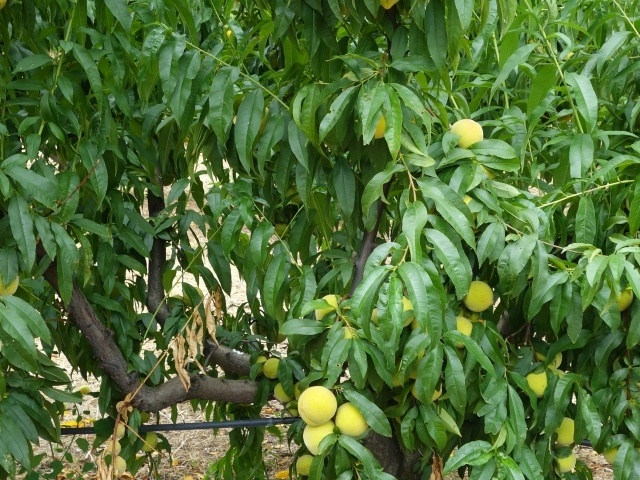peach: (296, 382, 343, 431), (445, 114, 490, 153), (334, 401, 375, 441), (301, 417, 345, 454), (463, 277, 498, 316), (447, 311, 479, 349), (519, 364, 552, 400), (548, 413, 580, 450), (309, 290, 343, 323), (609, 279, 639, 315), (293, 451, 323, 479), (259, 356, 285, 382), (556, 446, 579, 473), (138, 428, 161, 454), (271, 379, 295, 403)
